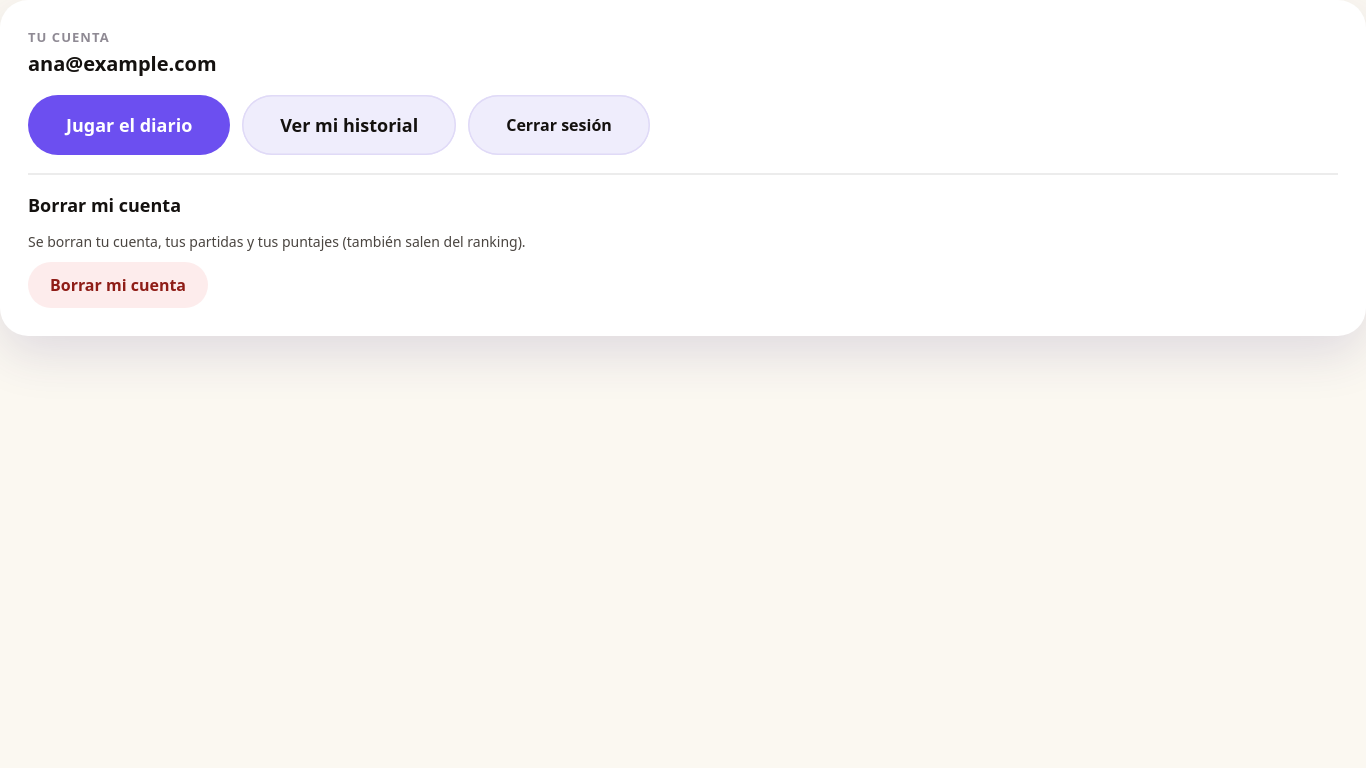
Test: PanelCuenta › borrar la cuenta › pide confirmar escribiendo BORRAR y avisa qué se pierde
Click the button "Borrar mi cuenta" at (118, 285), box [28, 262, 208, 308]
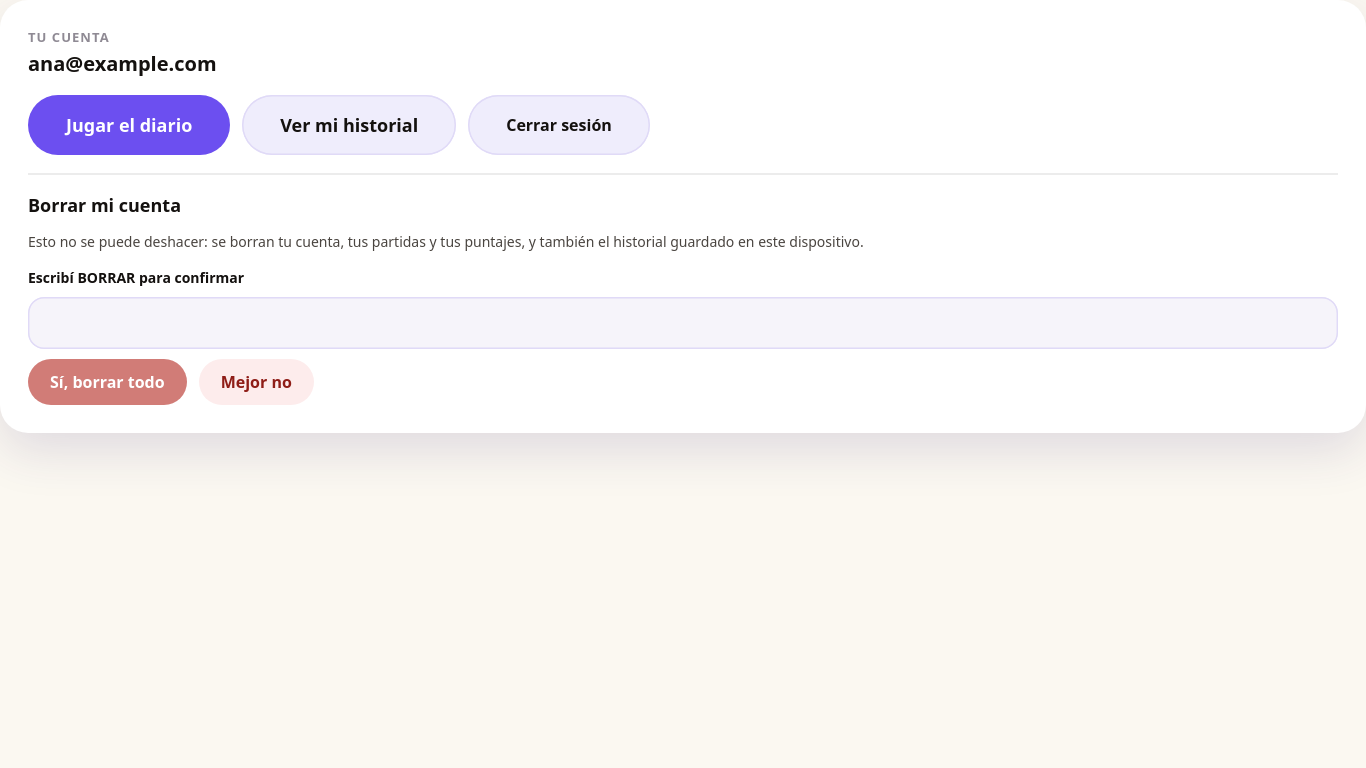
Check: the text "no se puede deshacer" is shown, box [28, 232, 864, 251]
Check: the button "Sí, borrar todo" is disabled, box [28, 359, 187, 405]
Type "borrar" into the field labelled "Escribí BORRAR para confirmar" at (683, 323), box [28, 297, 1338, 349]
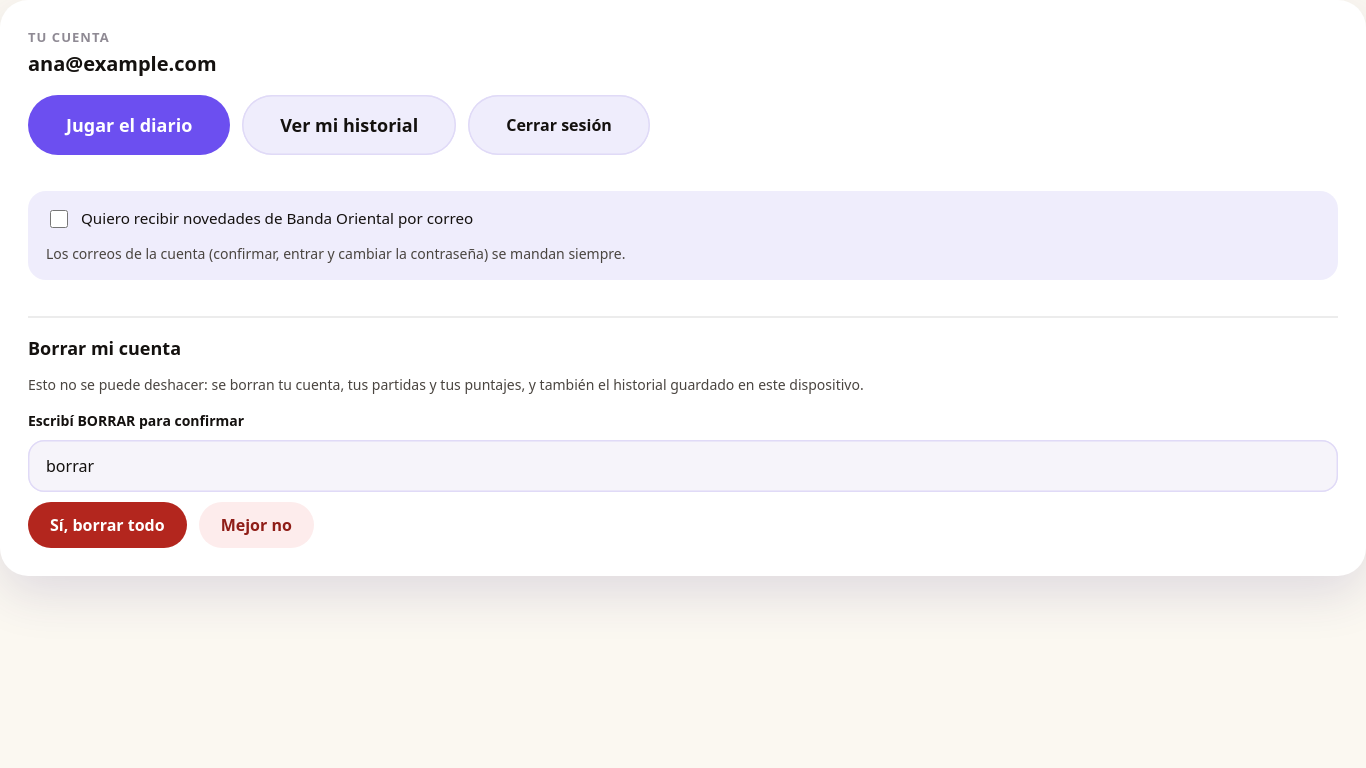
Check: the button "Sí, borrar todo" is enabled, box [28, 502, 187, 548]
